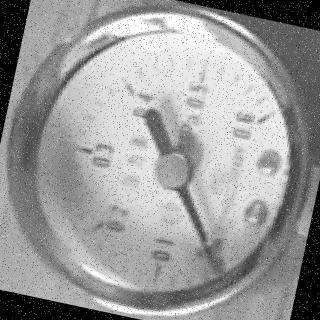gauge: (0, 0, 320, 320), (236, 97, 284, 148), (149, 146, 197, 194), (193, 225, 233, 267), (207, 259, 229, 279)
